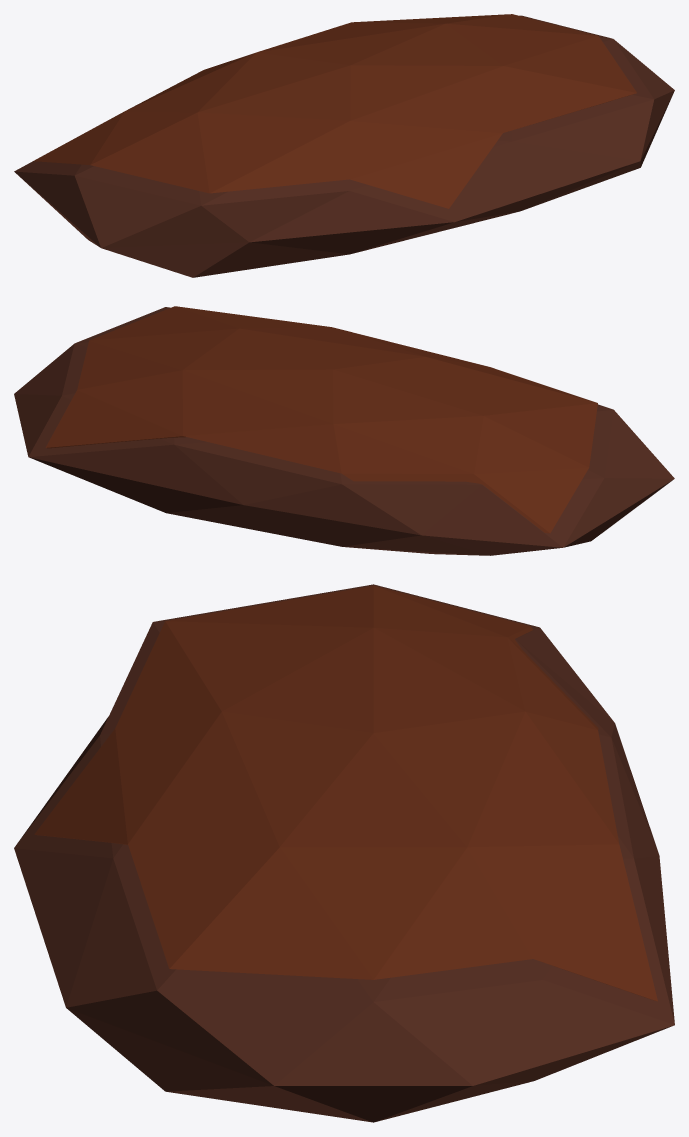
The model's file is teriyaki.fbx.
The picture shows the model from 3 angles, top to bottom: view 1: azimuth 30°, elevation 25°; view 2: azimuth 150°, elevation 25°; view 3: azimuth 270°, elevation 25°; orthographic projection. The views are drawn at different scales.
Parts seen in each view (by area): view 1: ICO球.001, ICO球; view 2: ICO球.001, ICO球; view 3: ICO球.001, ICO球.
Boxes of the visible parts, x1=… form: ICO球.001: x1=33, y1=14, x2=636, y2=208; ICO球: x1=14, y1=15, x2=674, y2=277; ICO球.001: x1=45, y1=306, x2=597, y2=533; ICO球: x1=14, y1=307, x2=674, y2=555; ICO球.001: x1=34, y1=585, x2=657, y2=1001; ICO球: x1=14, y1=584, x2=674, y2=1122.
Bounding box in the file's own units: 107 × 24.89 × 63.99.
Materials: 2 (2 with a texture image).
